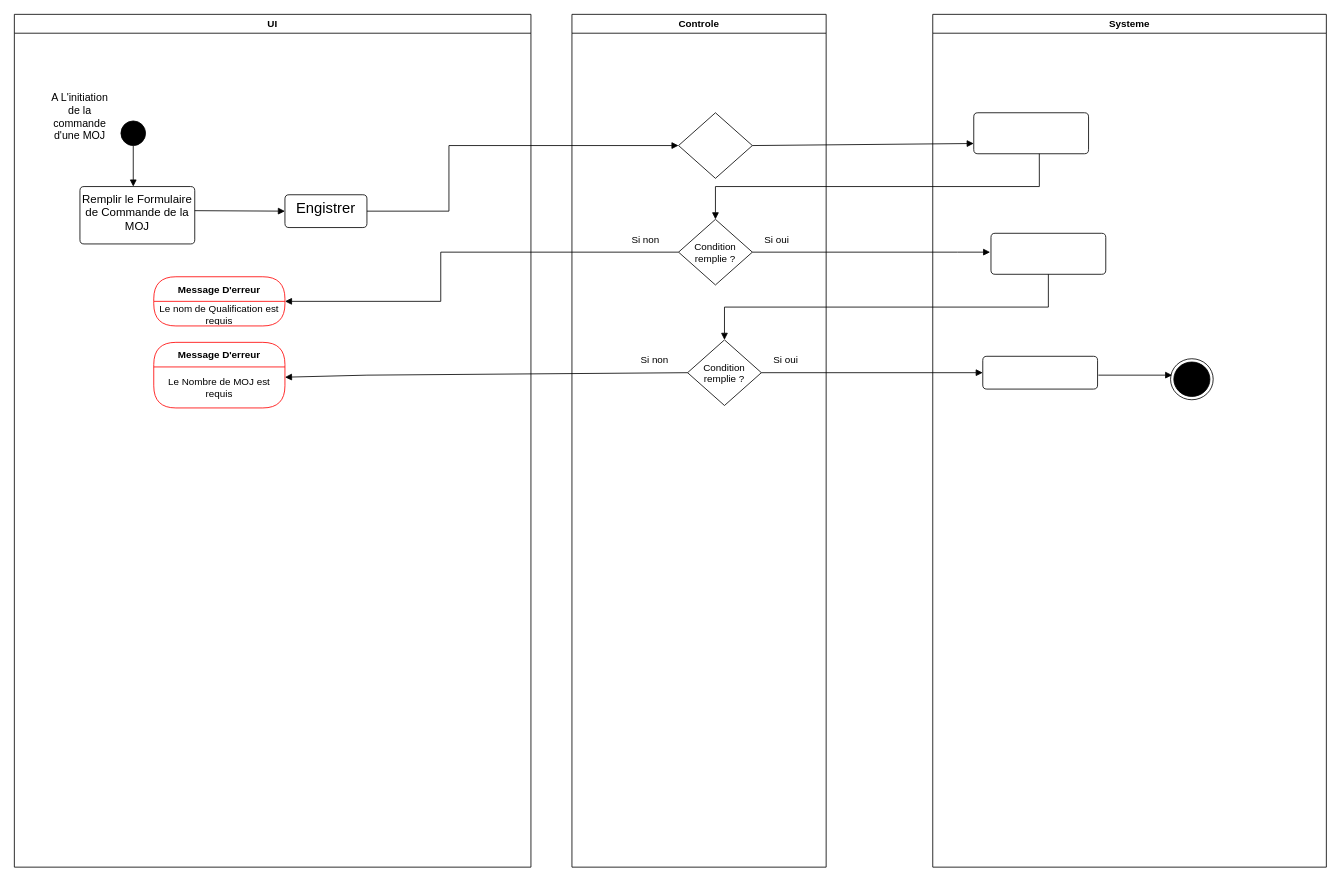
Some shapes in this 1341 by 882 pixel diagram are drawn without their labels. The centre of each missing label's shape, as x and y in pixels:
Confirmation ?: the point at 715,145
Enregistrer La Commande: the point at 1040,372
Vérifie La Saisie du Nom de Qualification Commandée: the point at 1031,133
Vérifier La Saisie du Nombre de MOJ: the point at 1048,253
